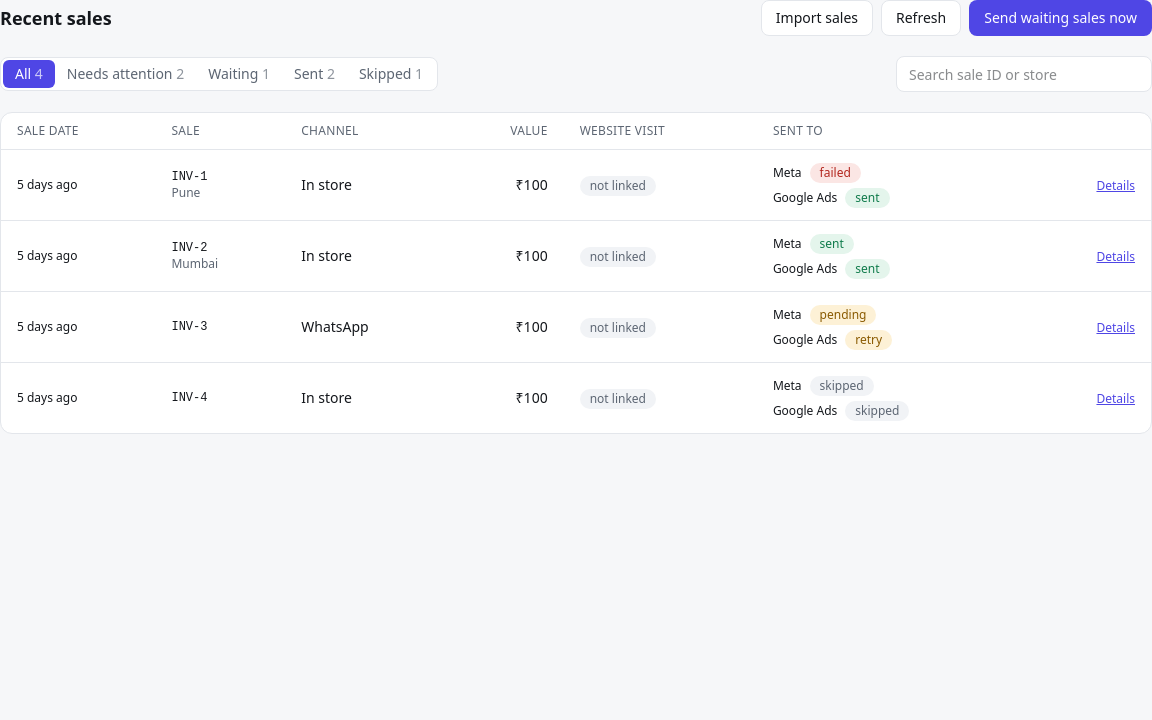
Test: Sales: details, preview and resend › previews what would be sent, without sending
Expected: the text "INV-1" is shown, [172,170,208,184]
Click the button "Details" in the row of "INV-1" at (1116,186), box [1096,178,1135,194]
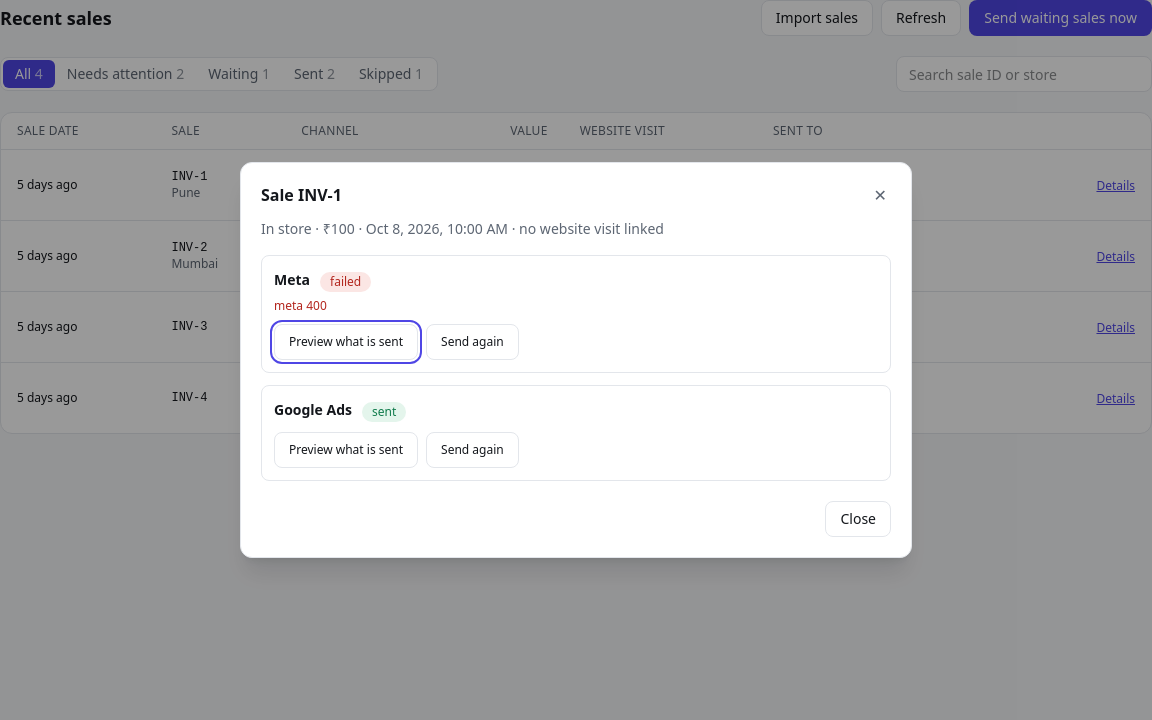
Click the button "Preview what is sent" below "meta 400" at (346,342), box [274,324,418,360]
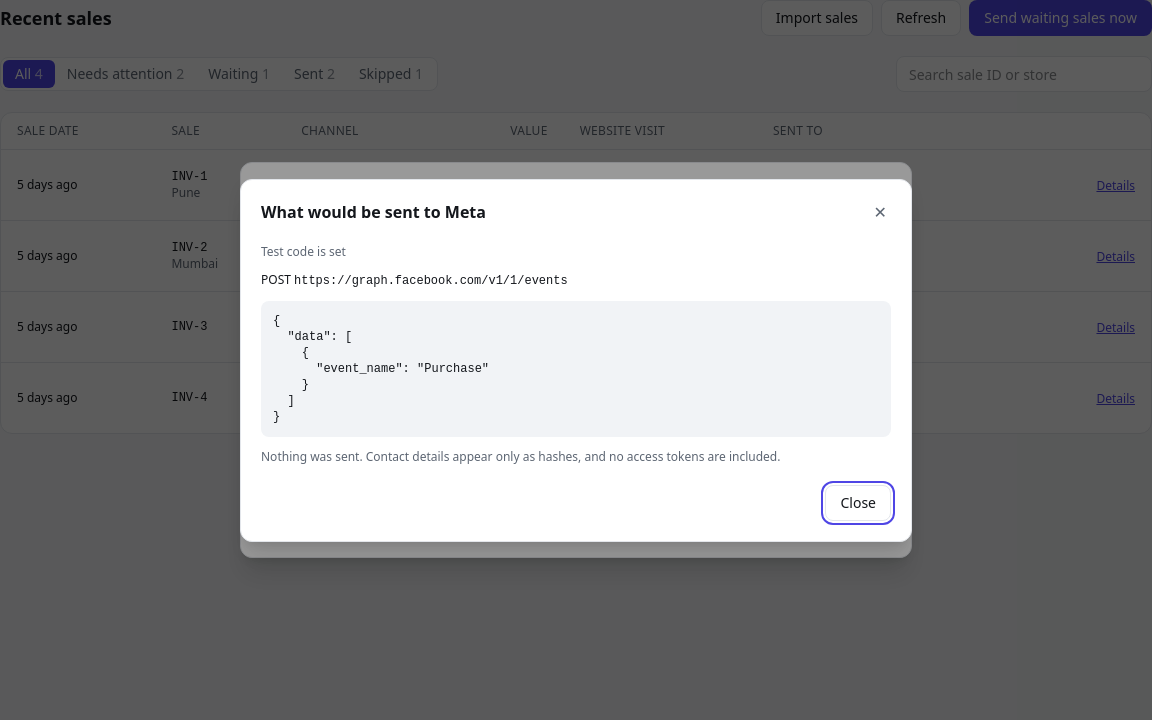
Expected: the heading "What would be sent to Meta" is shown, [261,200,486,224]
Expected: the text "Test code is set" is shown, [261,242,346,260]
Expected: the text "{ \"data\": [ { \"event_name\": \"Purchase\" } ] }" is shown, [261,300,891,436]
